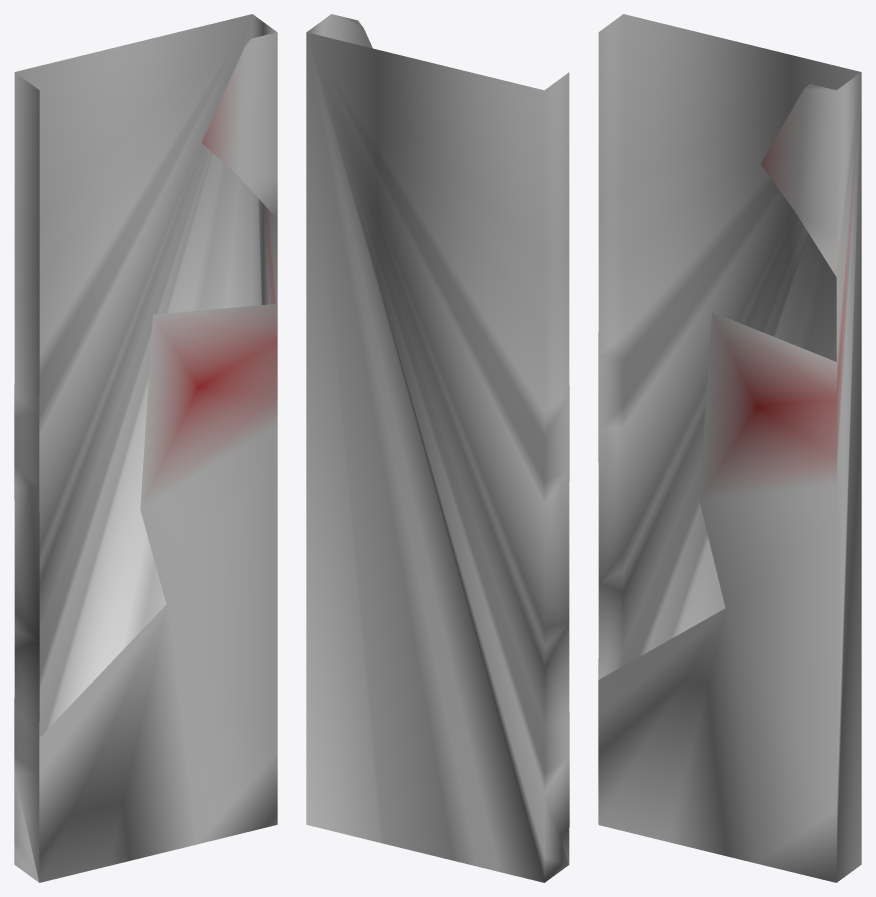
Rendered from SM_FA_Factory_W110_H350.fbx.
3 views of the same model, side by side, from view 1: azimuth 30°, elevation 25°; view 2: azimuth 150°, elevation 25°; view 3: azimuth 330°, elevation 25° (orthographic).
Parts seen in each view (by area): view 1: SM_FA_Factory_W110_H350; view 2: SM_FA_Factory_W110_H350; view 3: SM_FA_Factory_W110_H350.
Part boxes in pixels (x1,y1,x2,y2): SM_FA_Factory_W110_H350: (14, 14, 277, 882); SM_FA_Factory_W110_H350: (306, 14, 569, 882); SM_FA_Factory_W110_H350: (598, 14, 861, 882).
Size of the model in its own units: 110 by 20 by 350.
